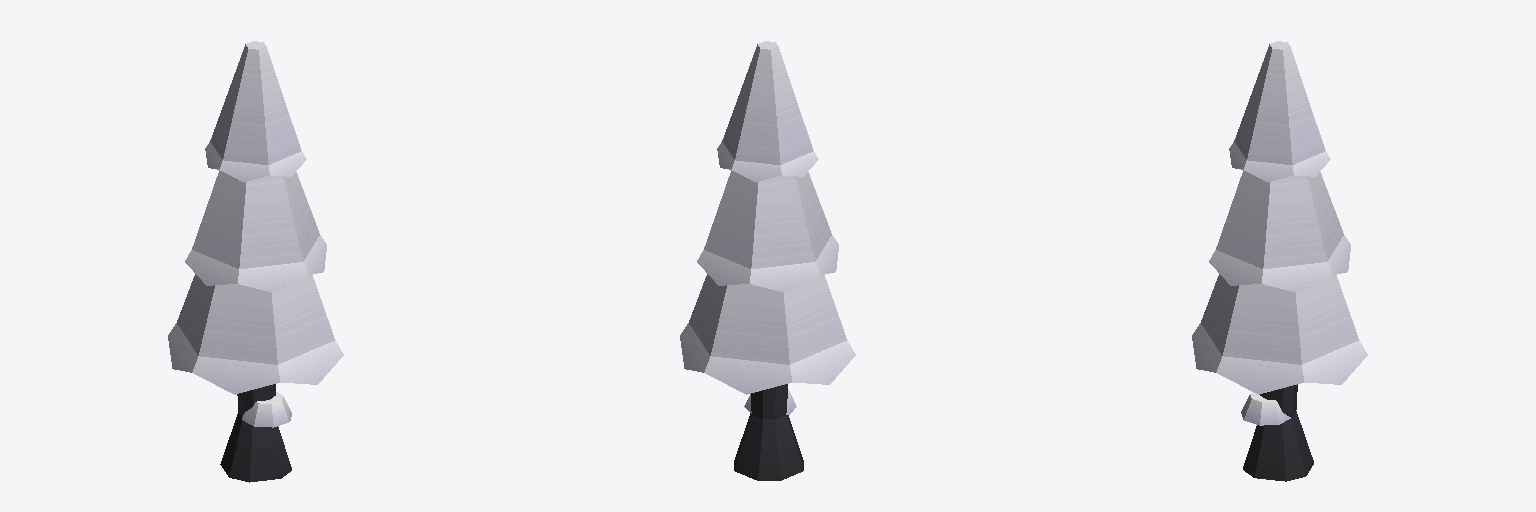
The picture shows the model from 3 angles: view 1: azimuth 30°, elevation 25°; view 2: azimuth 150°, elevation 25°; view 3: azimuth 270°, elevation 25°; orthographic projection.
Visible parts, largest first — view 1: tree.067; view 2: tree.067; view 3: tree.067.
Part boxes in pixels (left/top/right/bottom): tree.067: left=168, top=41, right=343, bottom=482; tree.067: left=680, top=41, right=855, bottom=480; tree.067: left=1192, top=41, right=1367, bottom=481.
Size of the model in its own units: 1.31 by 3.47 by 1.32.
1 materials, 1 textured.